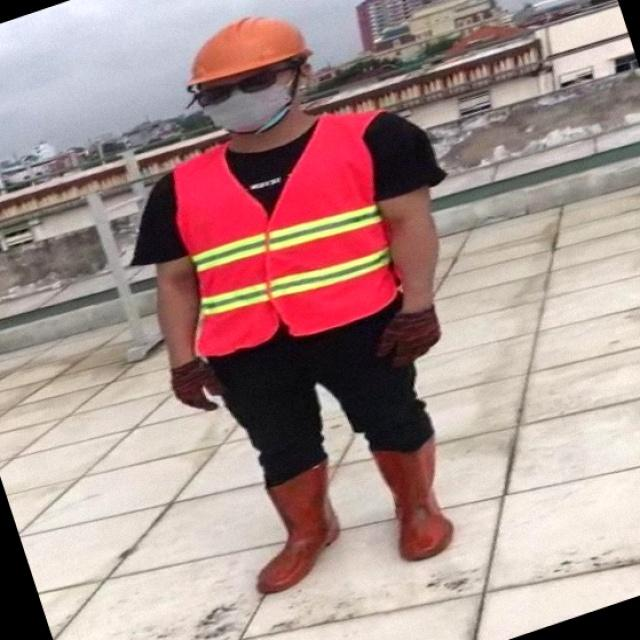Capacete: (188, 17, 311, 87)
Colete: (174, 112, 397, 355)
Oculos: (194, 65, 294, 106)
